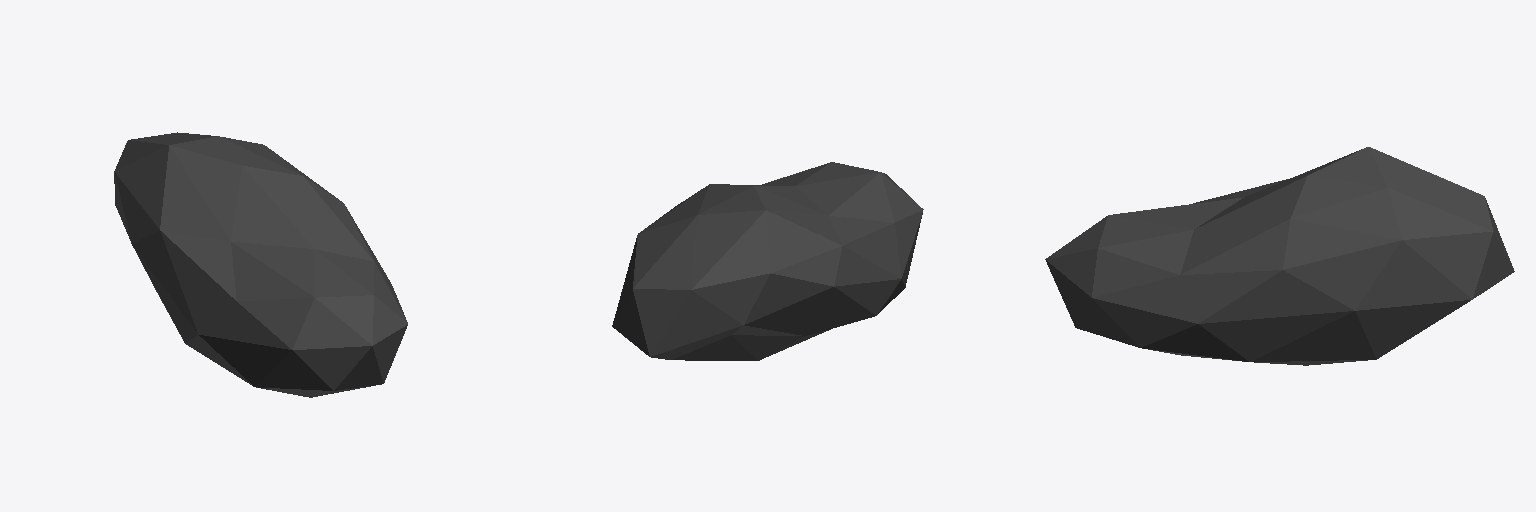
Rendered from rock_5.obj.
3 renders of one model, left to right at view 1: azimuth 30°, elevation 25°; view 2: azimuth 150°, elevation 25°; view 3: azimuth 270°, elevation 25°, orthographic.
Visible parts, largest first — view 1: r5_Icosphere.001; view 2: r5_Icosphere.001; view 3: r5_Icosphere.001.
Part boxes in pixels (left/top/right/bottom): r5_Icosphere.001: left=114, top=132, right=407, bottom=397; r5_Icosphere.001: left=612, top=162, right=923, bottom=360; r5_Icosphere.001: left=1045, top=147, right=1514, bottom=365.
Size of the model in its own units: 1.85 by 1.64 by 3.94.